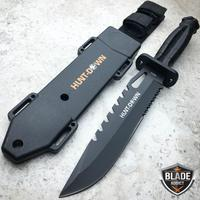knife: (58, 22, 187, 199)
